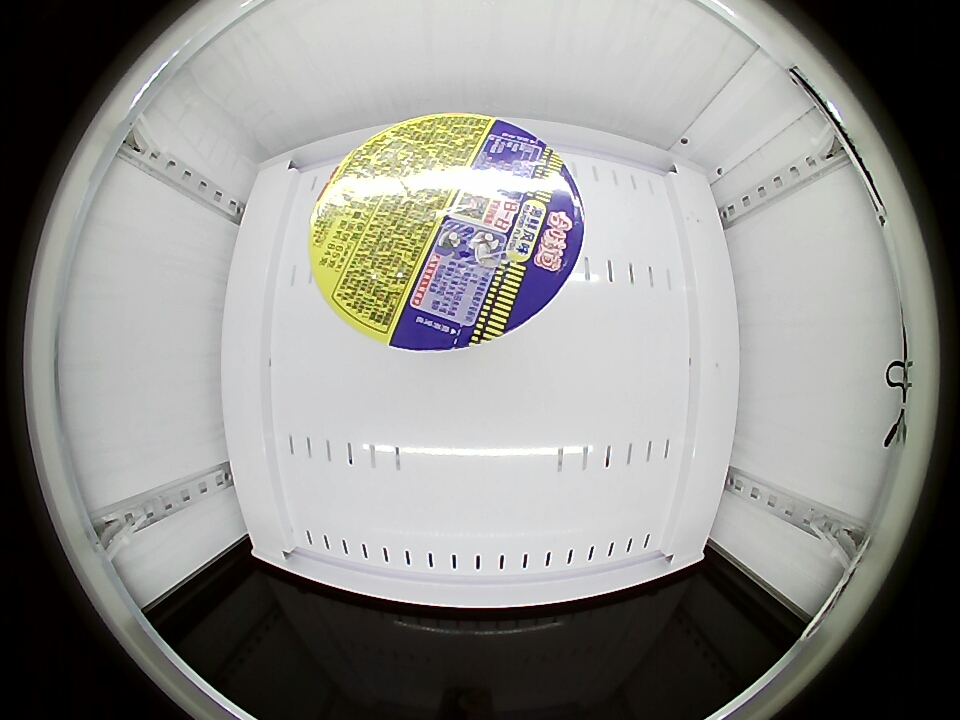heweidao: (307, 113, 585, 351)
